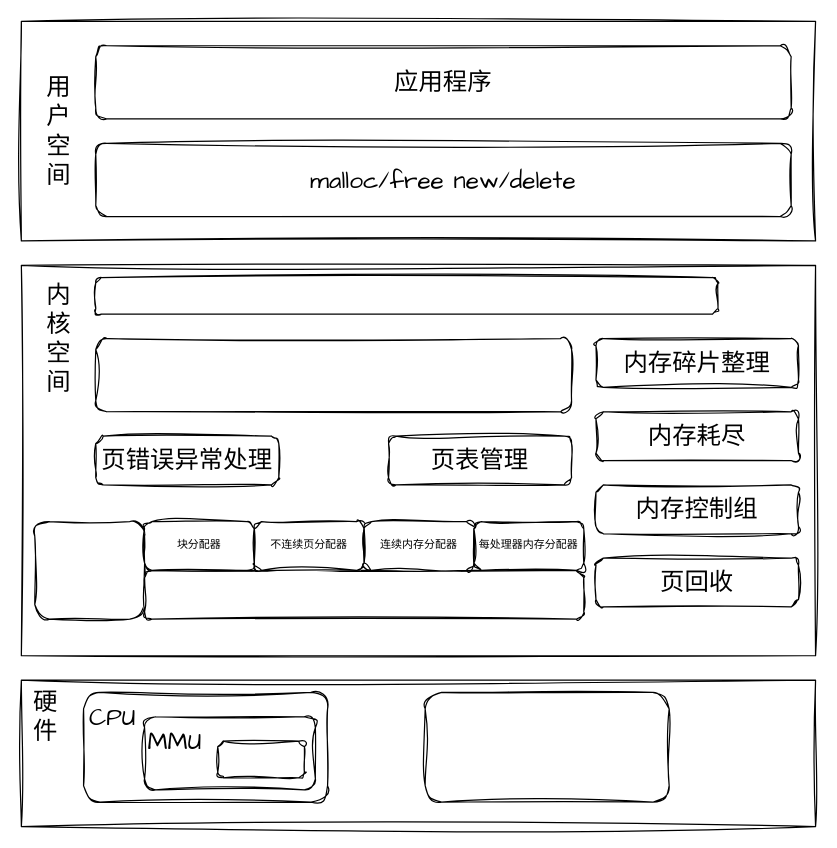
Image size: 837x848. Some labels were removed from this diagram. Each missing label, with the centre of its shape:
"sys_brk/sys_mmap/sys_munmap" belongs at (x=406, y=295).
"TLB" belongs at (x=260, y=759).
"引导内存分配器" belongs at (x=89, y=569).
"物理内存" belongs at (x=546, y=746).
"虚拟内存管理" belongs at (x=333, y=374).
"页分配器" belongs at (x=363, y=594).
